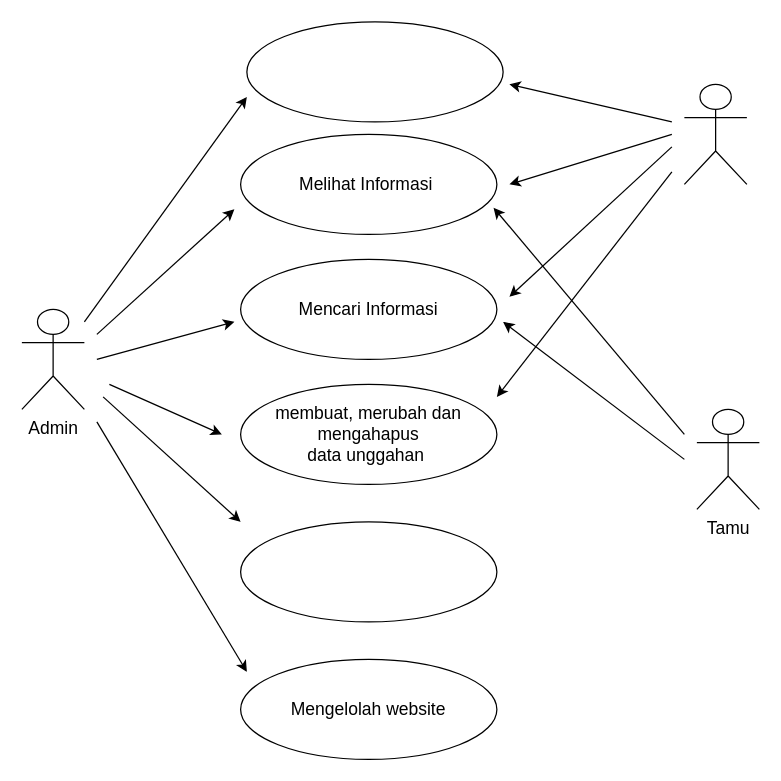
Some shapes in this 781 by 781 pixel diagram are drawn without their labels. The shapes that lost their labels are listed below. From the top down, each one's centre as x and y in pixels, then its label:
At (x=374, y=71): "Masuk".
At (x=715, y=133): "User".
At (x=368, y=571): "merubah, dan mengahpus data user".
